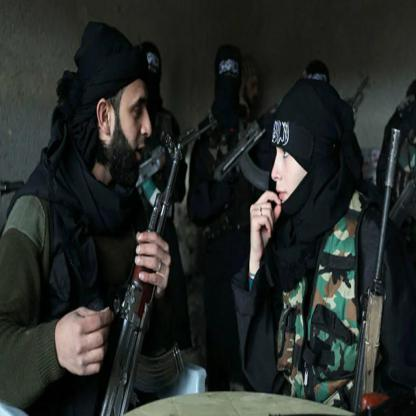rifle: (94, 141, 188, 415), (349, 126, 406, 416), (138, 110, 223, 194), (212, 116, 272, 211)
